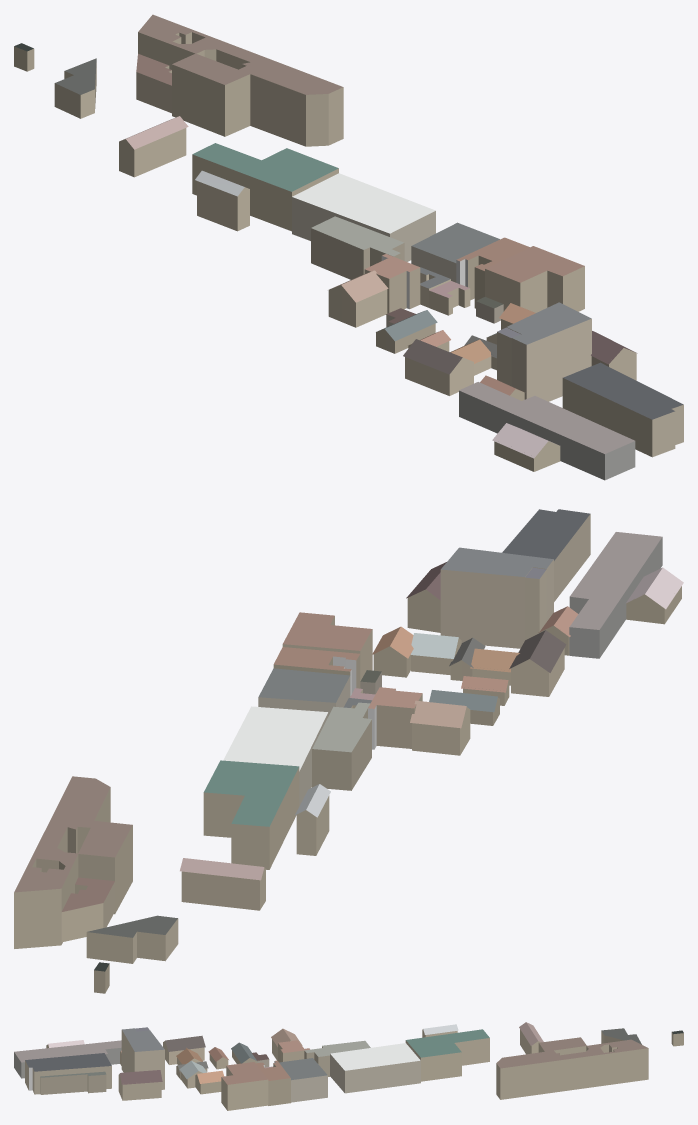
The picture shows the model from 3 angles, top to bottom: view 1: azimuth 30°, elevation 25°; view 2: azimuth 150°, elevation 25°; view 3: azimuth 270°, elevation 25°; orthographic projection. The views are drawn at different scales.
Visible parts, largest first — view 1: tuile; view 2: tuile; view 3: tuile.
Boxes of the visible parts, <box> form: tuile: <box>14,14,683,480</box>; tuile: <box>14,509,683,993</box>; tuile: <box>14,1022,683,1110</box>.
Size of the model in its own units: 57.33 by 17.29 by 253.
